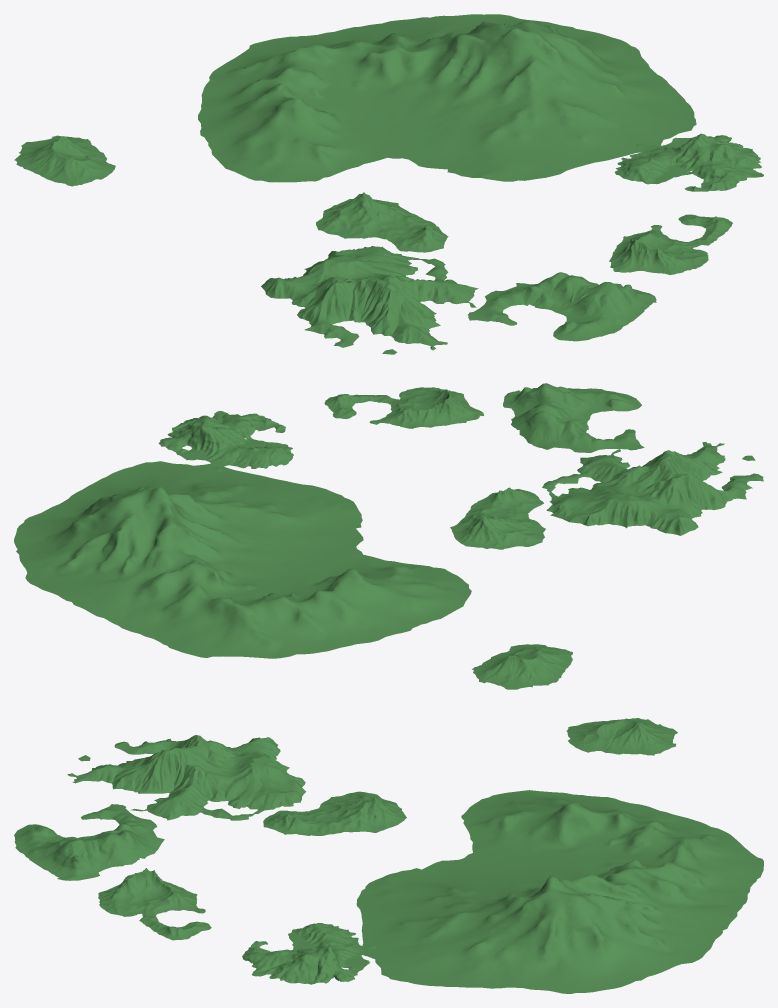
File: Island.glb
The picture shows the model from 3 angles, top to bottom: view 1: azimuth 30°, elevation 25°; view 2: azimuth 150°, elevation 25°; view 3: azimuth 270°, elevation 25°; orthographic projection. The views are drawn at different scales.
Visible parts, largest first — view 1: Island; view 2: Island; view 3: Island.
Boxes of the visible parts, x1,y1,x2,y2 form: Island: [14, 14, 763, 354]; Island: [14, 383, 763, 689]; Island: [14, 718, 763, 993].
Size of the model in its own units: 2671 by 271 by 3071.
